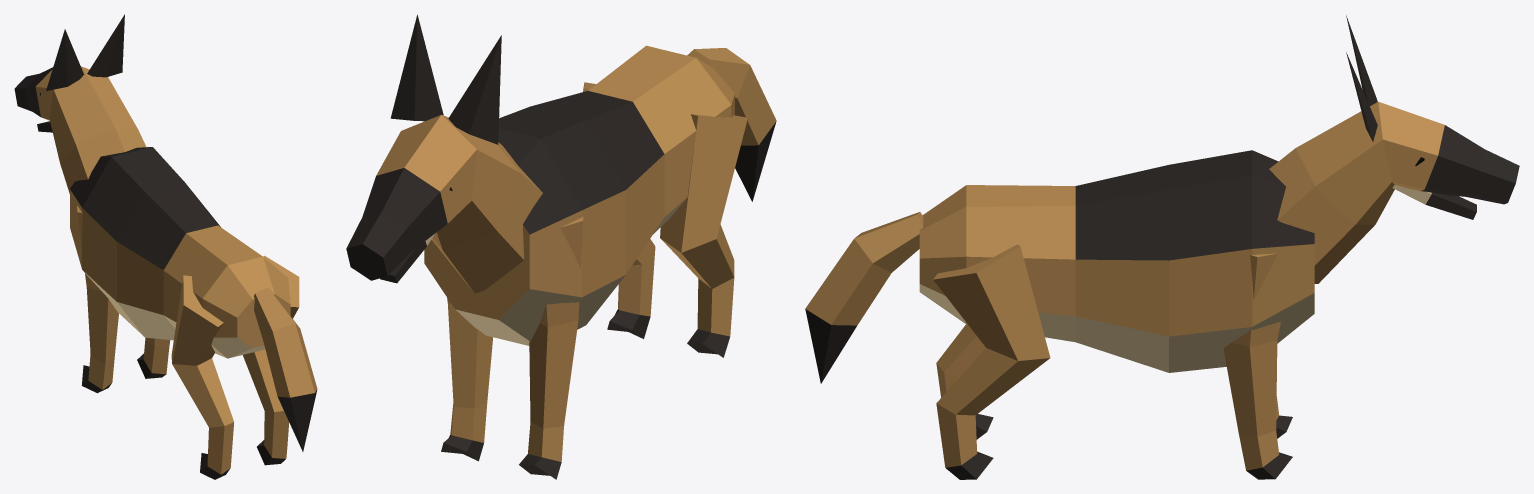
Rendered from dog.glb.
3 renders of one model, left to right at view 1: azimuth 30°, elevation 25°; view 2: azimuth 150°, elevation 25°; view 3: azimuth 270°, elevation 25°, orthographic. The views are drawn at different scales.
Visible parts, largest first — view 1: Body, Head, Leg_BL, Tail, Leg_BR, Leg_FL, Ear_L, Ear_R, Leg_FR; view 2: Body, Head, Leg_BL, Leg_FL, Leg_FR, Tail, Ear_L, Ear_R, Leg_BR, Jaw; view 3: Body, Head, Leg_BR, Tail, Leg_FR, Leg_BL, Jaw.
Part boxes in pixels (x1,y1,x2,y2): Body: (70,147,290,358); Head: (14,66,146,193); Leg_BL: (171,275,234,479); Tail: (254,288,317,451); Leg_BR: (243,255,299,465); Leg_FL: (77,205,118,393); Ear_L: (46,29,83,90); Ear_R: (87,14,124,77); Leg_FR: (137,337,170,378); Body: (424,45,734,345); Head: (346,115,542,293); Leg_BL: (660,114,746,357); Leg_FL: (519,216,583,479); Leg_FR: (441,297,492,461); Tail: (687,48,776,201); Ear_L: (448,35,501,144); Ear_R: (390,14,443,121); Leg_BR: (583,82,655,338); Jaw: (380,234,434,283); Body: (919,150,1314,372); Head: (1269,101,1519,283); Leg_BR: (933,244,1050,479); Tail: (805,212,923,383); Leg_FR: (1223,253,1292,479); Leg_BL: (936,324,993,439); Jaw: (1392,185,1476,219).
Size of the model in its own units: 0.3239 by 0.907 by 1.37.
